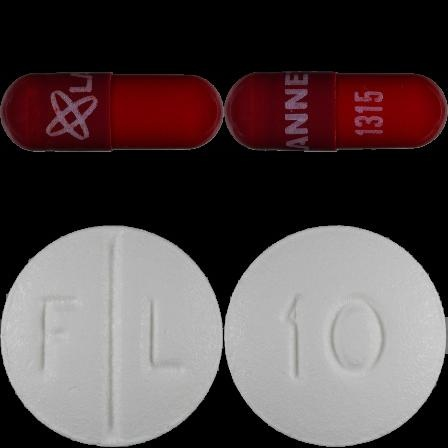54868-4683: (0, 0, 224, 224)
